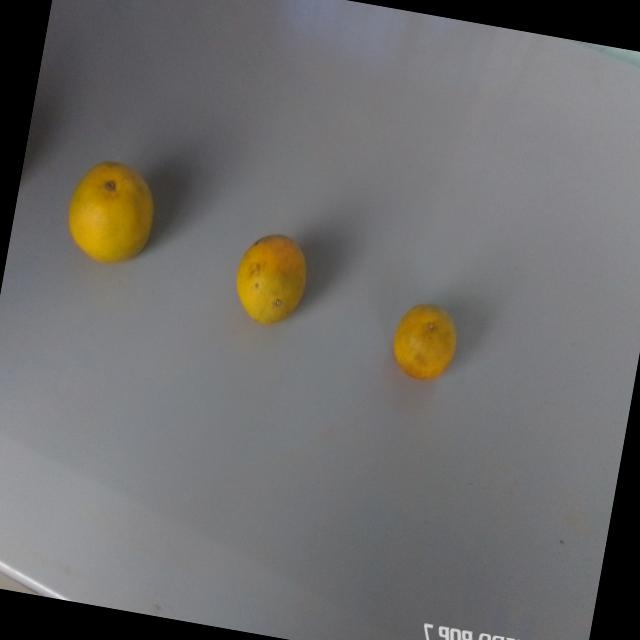agrume: (54, 145, 174, 278), (226, 224, 318, 334), (385, 285, 467, 395)
